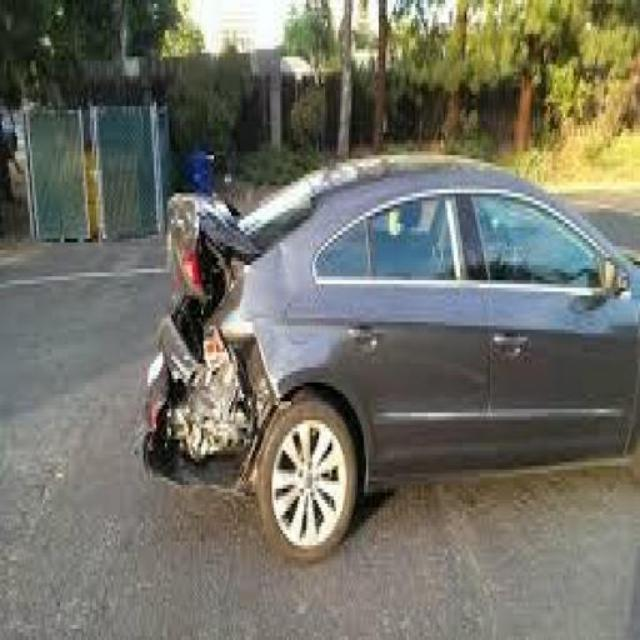no part: (141, 188, 293, 509)
